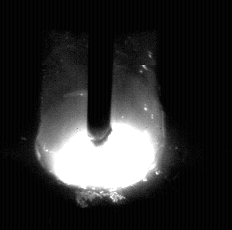arame: (87, 0, 112, 146)
poca: (35, 0, 164, 230)
